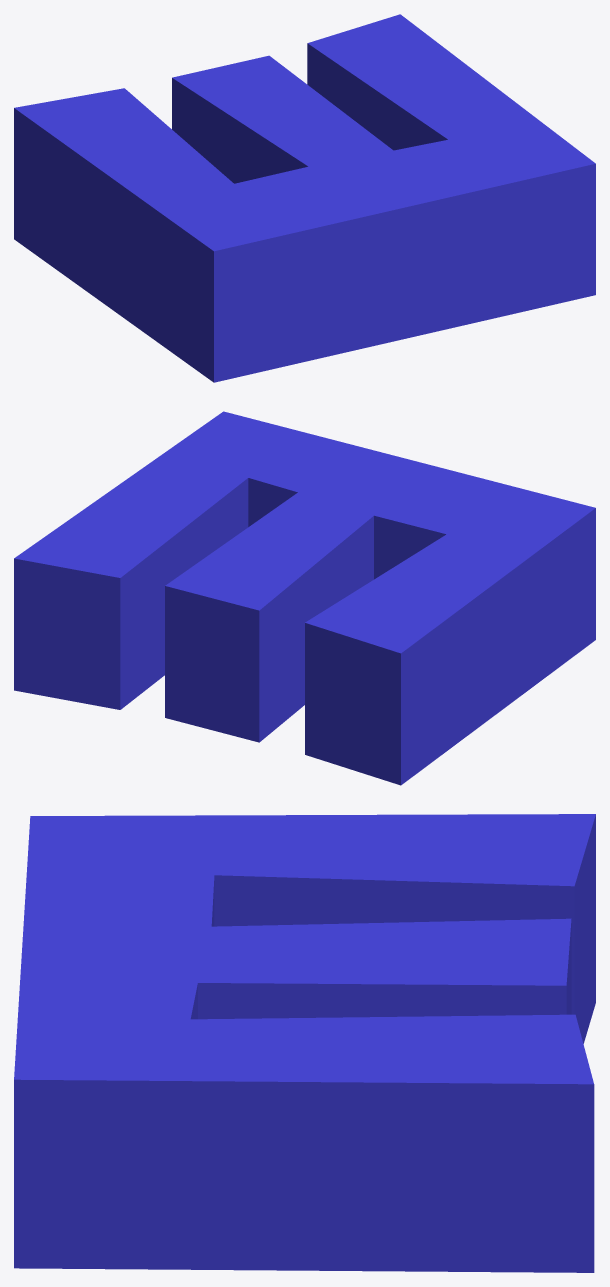
Rendered from letter_e.fbx.
3 views of the same model, one above another, from view 1: azimuth 30°, elevation 25°; view 2: azimuth 150°, elevation 25°; view 3: azimuth 270°, elevation 25° (orthographic). The views are drawn at different scales.
Parts seen in each view (by area): view 1: E; view 2: E; view 3: E.
Part boxes in pixels (x1,y1,x2,y2): E: [14, 14, 595, 382]; E: [14, 411, 595, 785]; E: [14, 814, 595, 1272].
Size of the model in its own units: 498 by 162 by 454.
